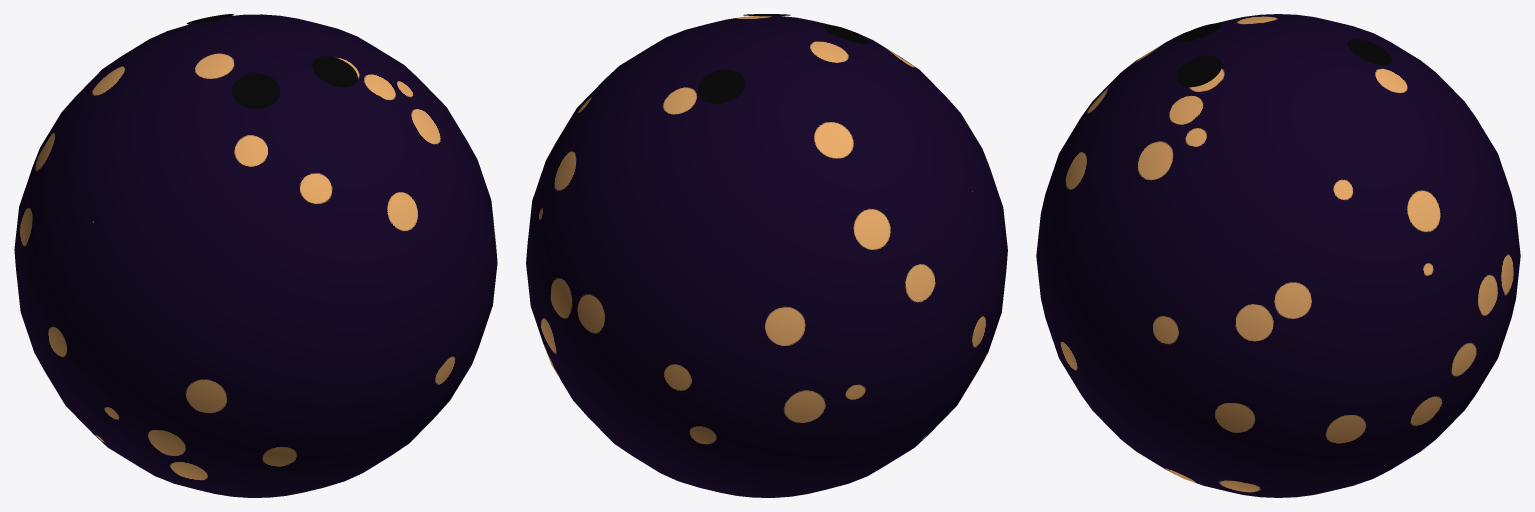
The model's file is ball_purpleGoldDots.gltf.
3 renders of one model, left to right at view 1: azimuth 30°, elevation 25°; view 2: azimuth 150°, elevation 25°; view 3: azimuth 270°, elevation 25°, orthographic.
Visible parts, largest first — view 1: purpleGoldDots; view 2: purpleGoldDots; view 3: purpleGoldDots.
Boxes of the visible parts, x1,y1,x2,y2 form: purpleGoldDots: [14, 14, 497, 497]; purpleGoldDots: [526, 14, 1007, 497]; purpleGoldDots: [1036, 14, 1520, 497].
Bounding box in the file's own units: 0.25 × 0.25 × 0.25.
2 materials, 1 textured.
